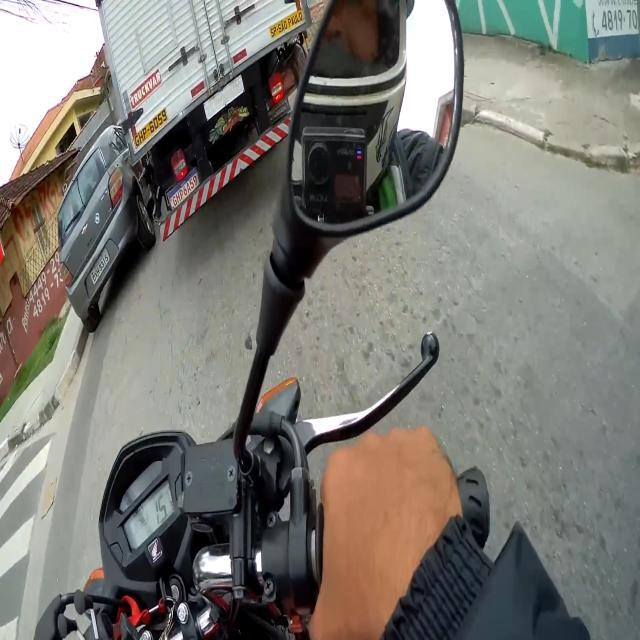Placa_mercosul_carro: (167, 168, 199, 209), (89, 248, 109, 284)
